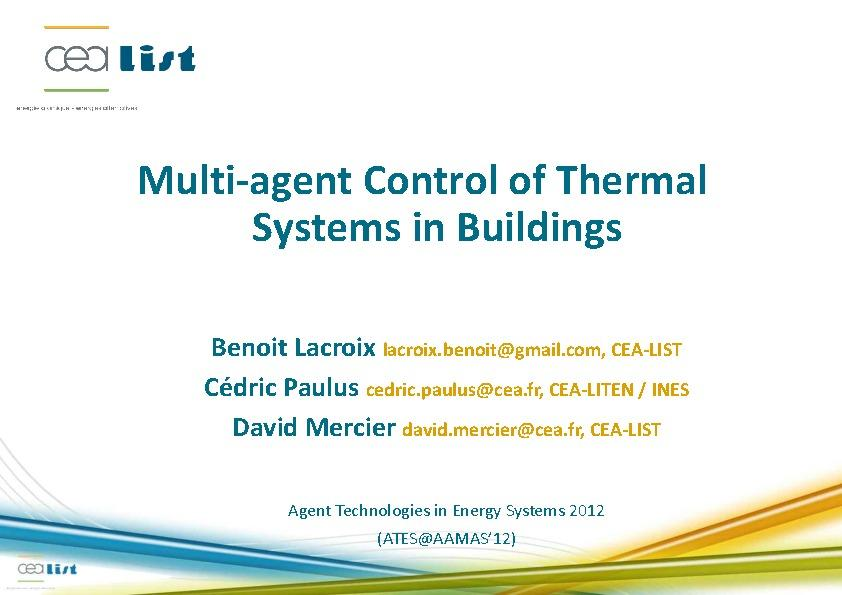subtitle: (171, 305, 755, 469)
title: (126, 131, 734, 265)
